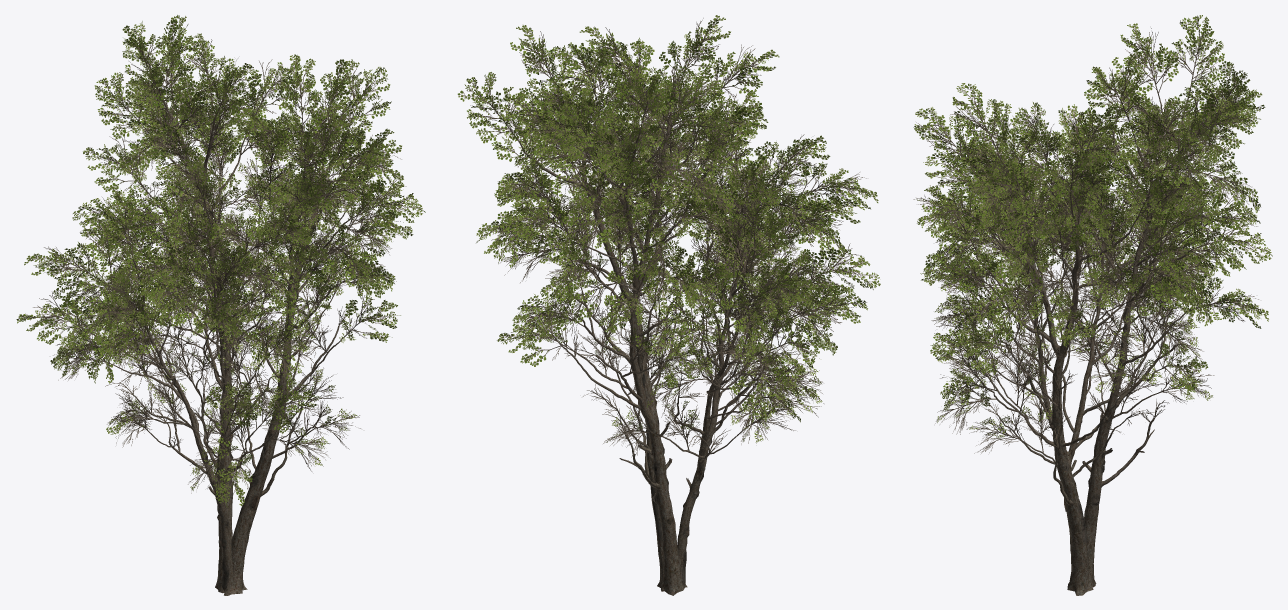
File: SM_BlackAlder_Field_03_PP_LOD3.gltf
3 views of the same model, side by side, from view 1: azimuth 30°, elevation 25°; view 2: azimuth 150°, elevation 25°; view 3: azimuth 270°, elevation 25° (orthographic). The views are drawn at different scales.
Parts seen in each view (by area): view 1: SM_BlackAlder_Field_03_PP; view 2: SM_BlackAlder_Field_03_PP; view 3: SM_BlackAlder_Field_03_PP.
Boxes of the visible parts, <box> form: SM_BlackAlder_Field_03_PP: <box>16,15,425,595</box>; SM_BlackAlder_Field_03_PP: <box>457,15,880,595</box>; SM_BlackAlder_Field_03_PP: <box>913,15,1272,595</box>.
Bounding box in the file's own units: 11.47 × 16.65 × 9.84.
3 materials, 3 textured.
